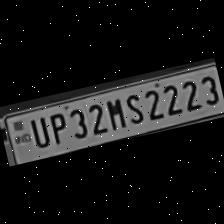2: (83, 99, 109, 137), (156, 80, 182, 118), (176, 76, 202, 113), (140, 86, 164, 122)
3: (196, 71, 222, 108), (64, 104, 90, 140)
M: (102, 95, 128, 132)
P: (44, 109, 70, 146)
S: (120, 90, 146, 128)
U: (26, 114, 51, 150)
